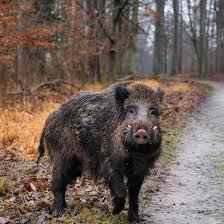wildboar: (33, 76, 169, 221)
